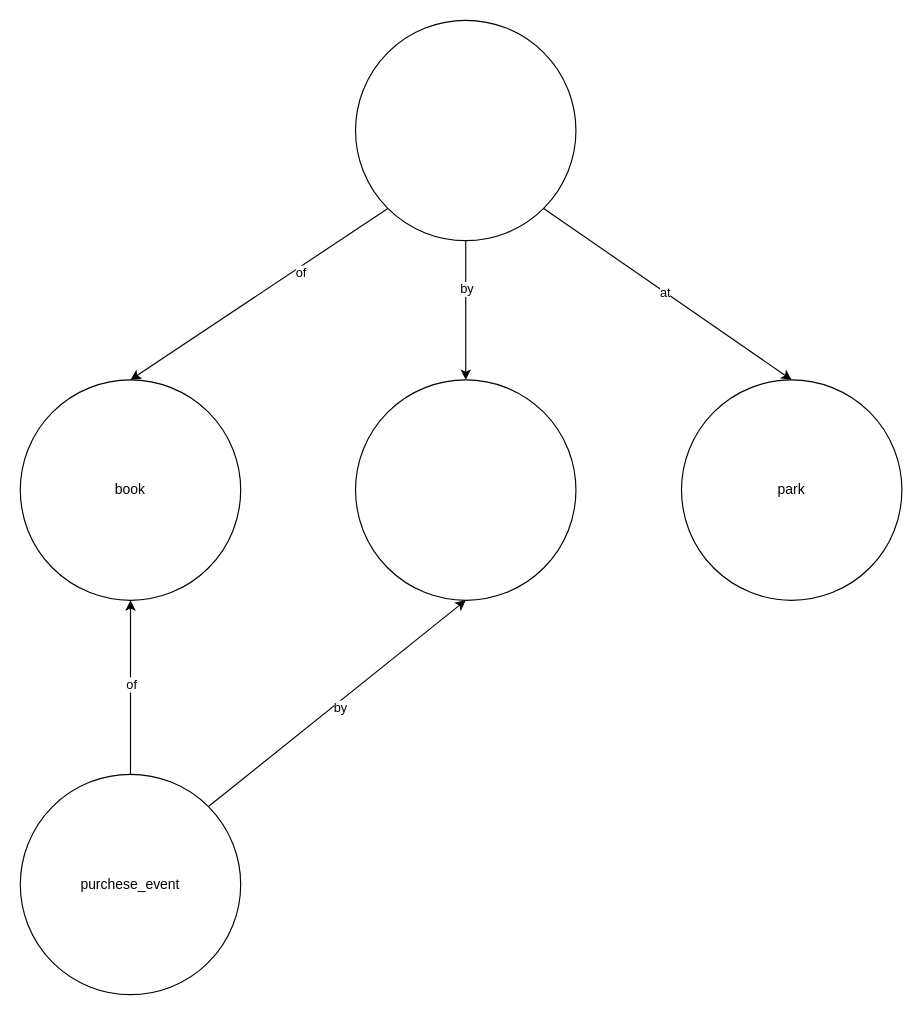
The diagram is 922 pixels wide and 1015 high, and some of its shapes have lost their labels. Here are the shapes that lost their labels. From the top down, the centre of each, then its label:
At (x=465, y=130): "reading_event".
At (x=465, y=489): "Alice".
